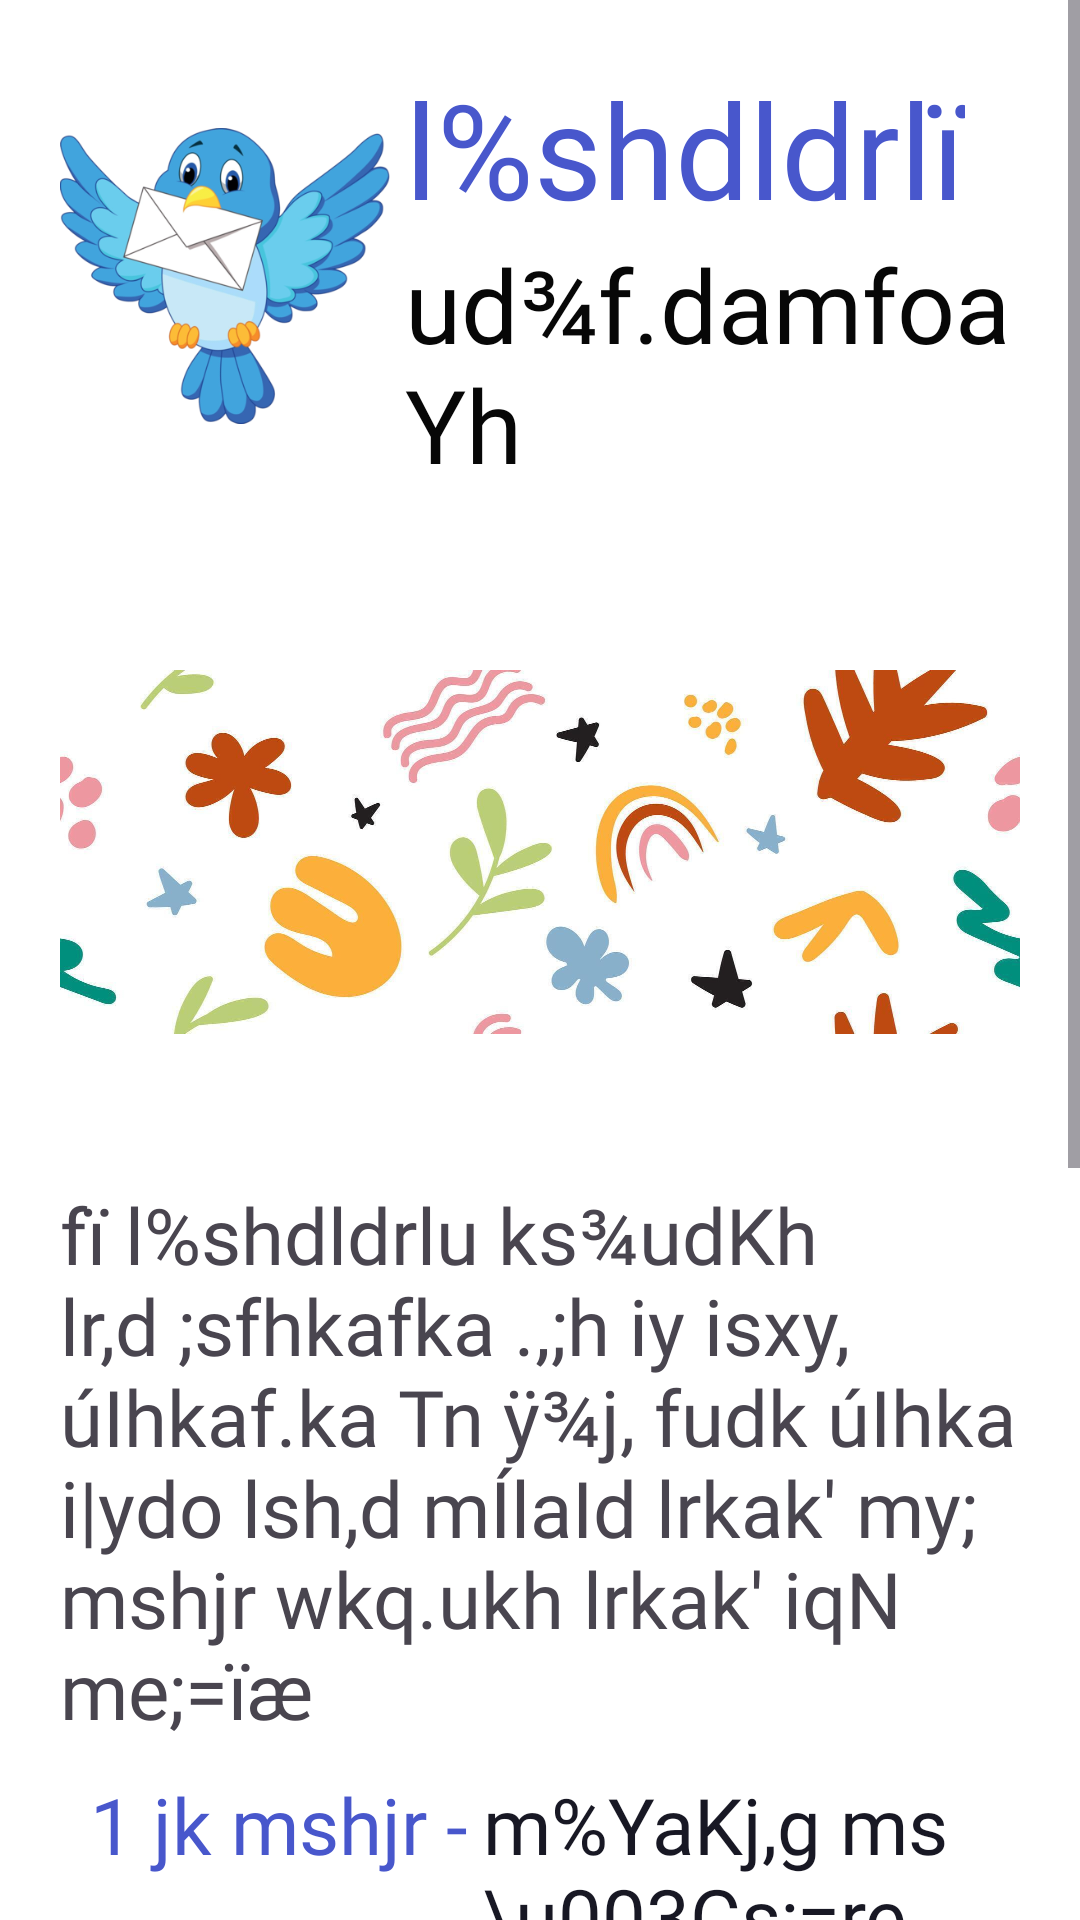

Icons on this 1080px x 1920px Android screen, each with the point to tap as [x,y]:
guide animal: [225,276]
